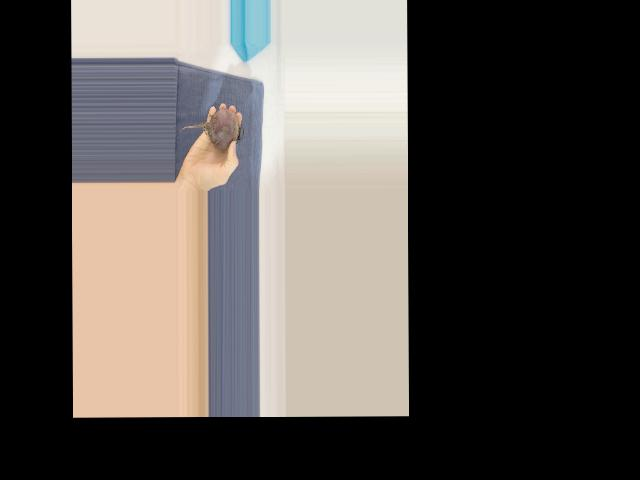beet: (179, 108, 243, 149)
